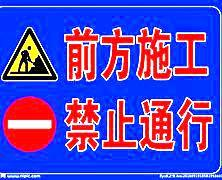sign: (1, 4, 220, 174)
